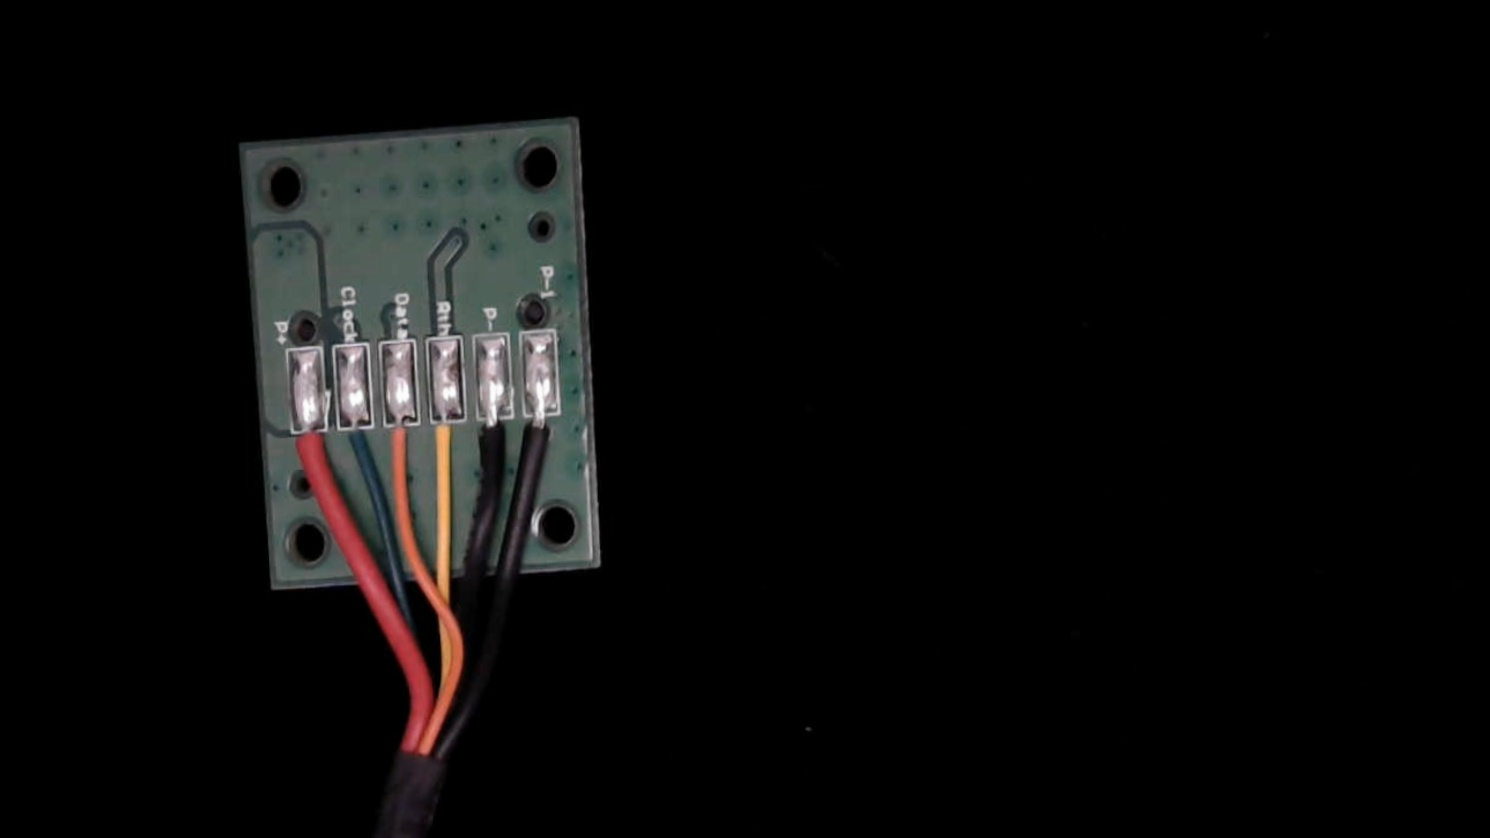Black: (474, 386, 516, 484)
Black1: (521, 386, 562, 476)
Green: (334, 399, 376, 494)
Orange: (382, 393, 421, 490)
Red: (288, 403, 330, 498)
Yellow: (423, 392, 465, 491)
